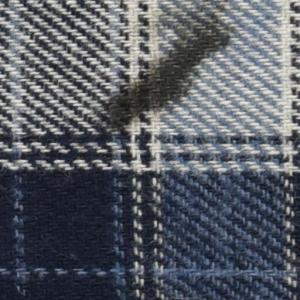Stain: (87, 1, 240, 138)
